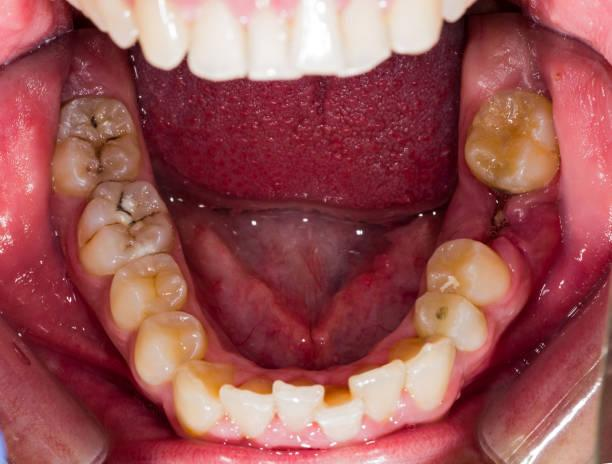Caries: (70, 99, 146, 177), (99, 181, 171, 244)
Hypodontia: (475, 186, 547, 270)
